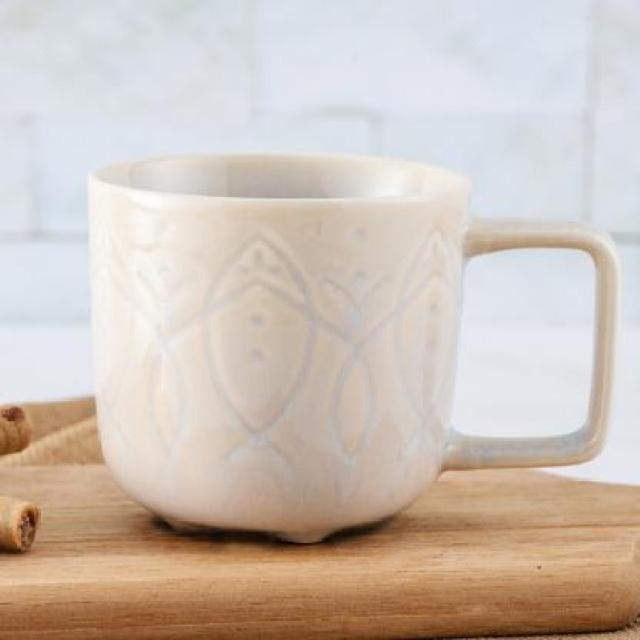taza: (88, 150, 617, 544)
